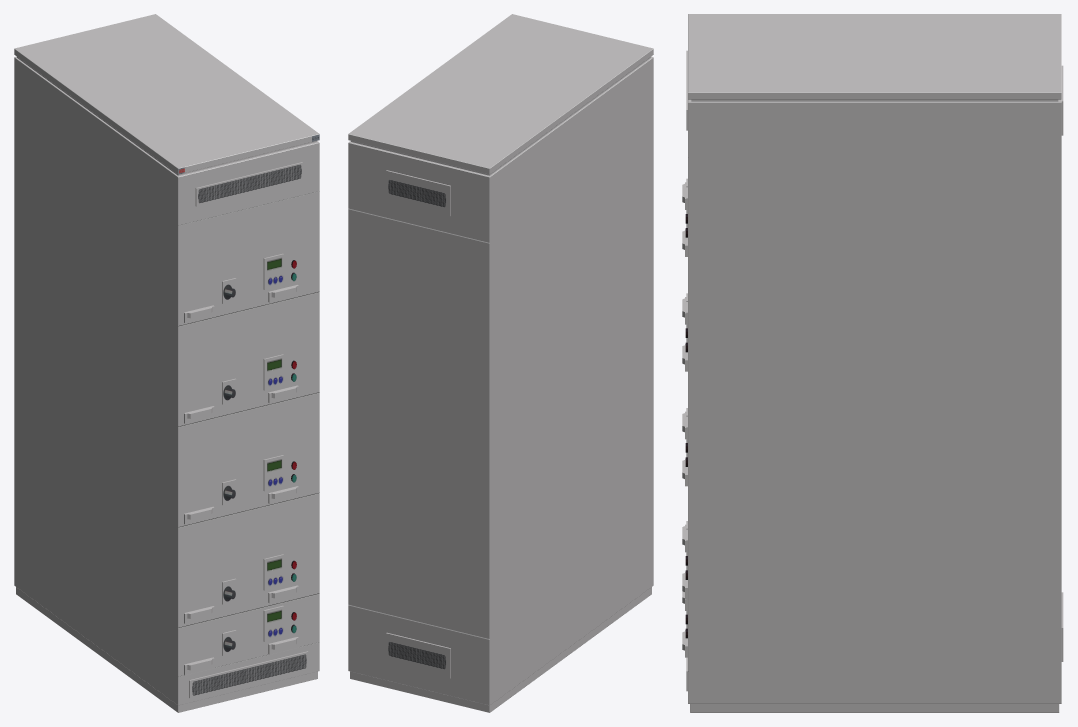
3 views of the same model, side by side, from view 1: azimuth 30°, elevation 25°; view 2: azimuth 150°, elevation 25°; view 3: azimuth 270°, elevation 25° (orthographic). The views are drawn at different scales.
Visible parts, largest first — view 1: Lo-BODY_01, Lo-PRINT_01; view 2: Lo-BODY_01, Lo-PRINT_01; view 3: Lo-BODY_01.
Boxes of the visible parts, left/top/right/bottom form: Lo-BODY_01: left=14, top=14, right=319, bottom=712; Lo-PRINT_01: left=179, top=137, right=318, bottom=695; Lo-BODY_01: left=348, top=14, right=653, bottom=712; Lo-PRINT_01: left=388, top=180, right=445, bottom=669; Lo-BODY_01: left=682, top=14, right=1063, bottom=712.
Bounding box in the file's own units: 0.5984 × 2.2 × 1.23.
3 materials, 3 textured.
